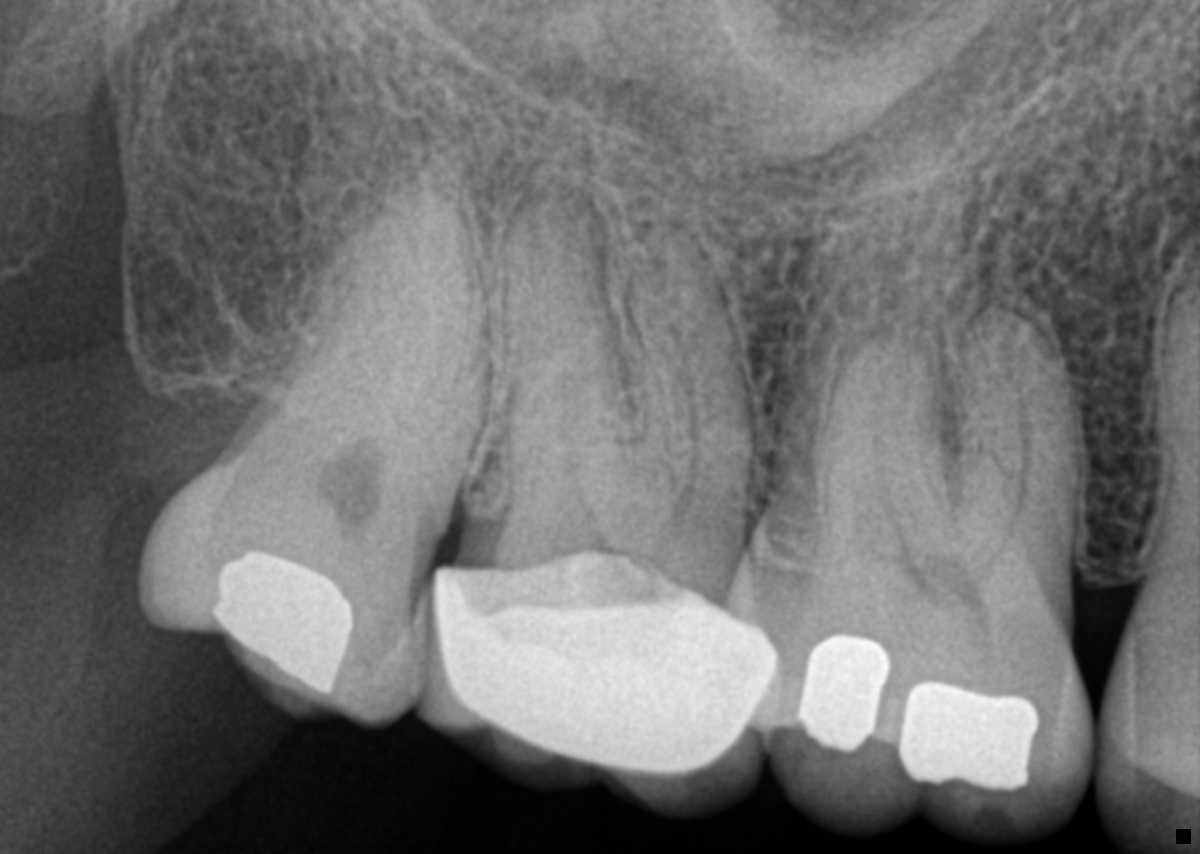Distal Canal: (870, 329, 917, 578), (555, 356, 590, 510)
Distal Root: (457, 173, 636, 567), (824, 331, 950, 551)
Main Root: (235, 177, 489, 544), (1145, 274, 1200, 568)
Mesial Canal: (973, 341, 1029, 582), (646, 357, 697, 558)
Mesial Root: (618, 224, 758, 617), (945, 301, 1081, 626)
Palatal Root: (763, 118, 981, 554)
